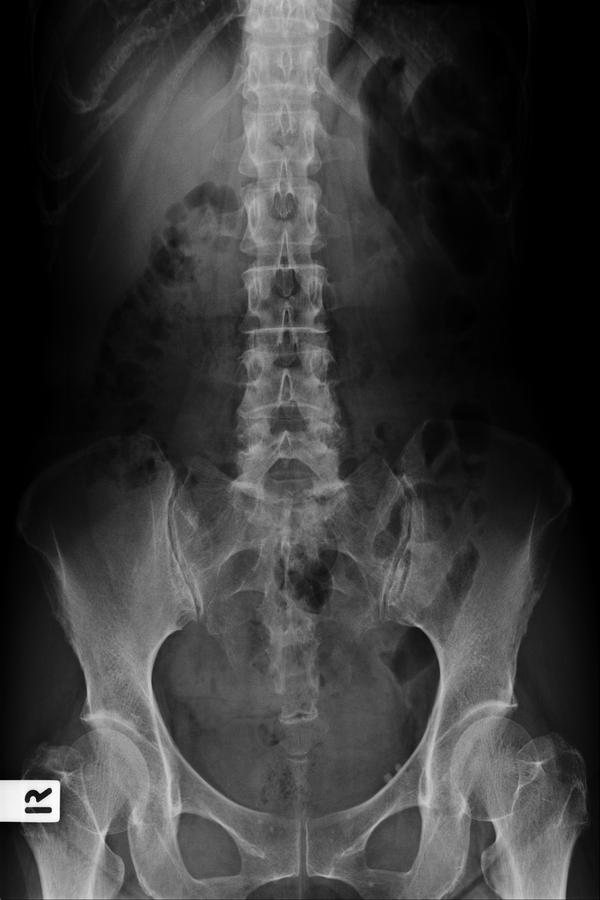lumbar scoliosis: (226, 11, 341, 541)
